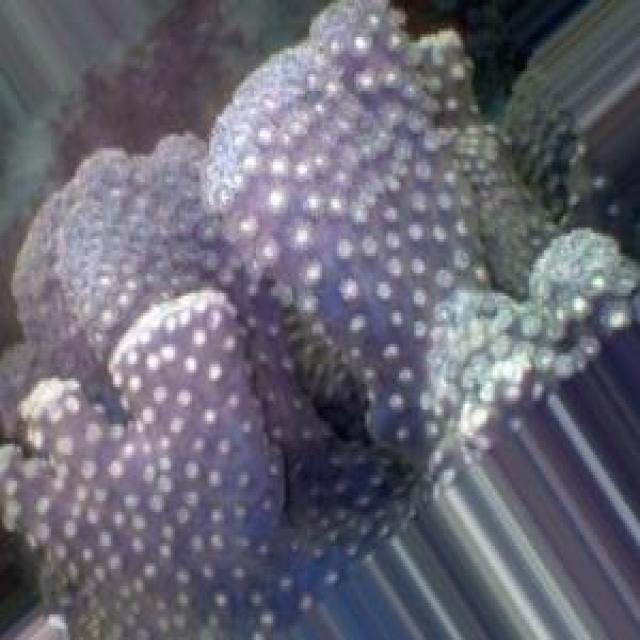Healthy: (201, 1, 640, 495), (1, 292, 396, 640), (1, 133, 340, 438)
